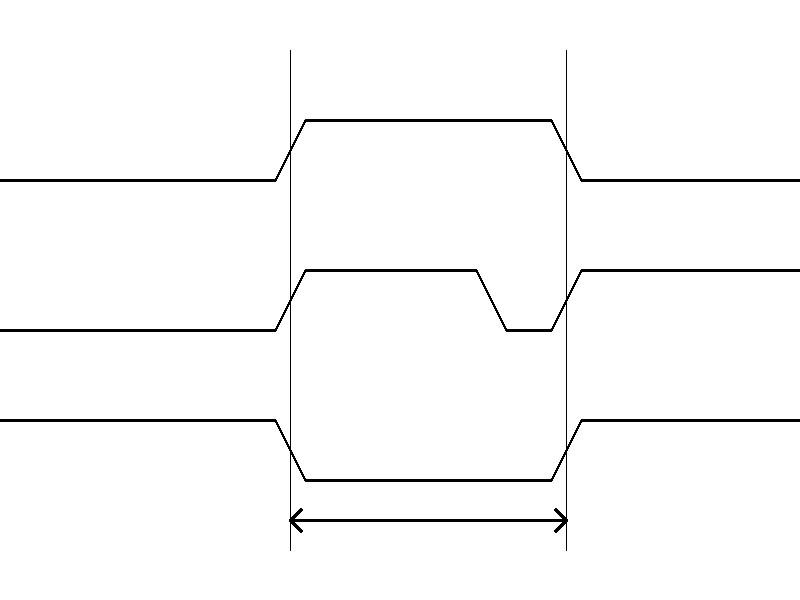double_arrow: (290, 505, 566, 535)
